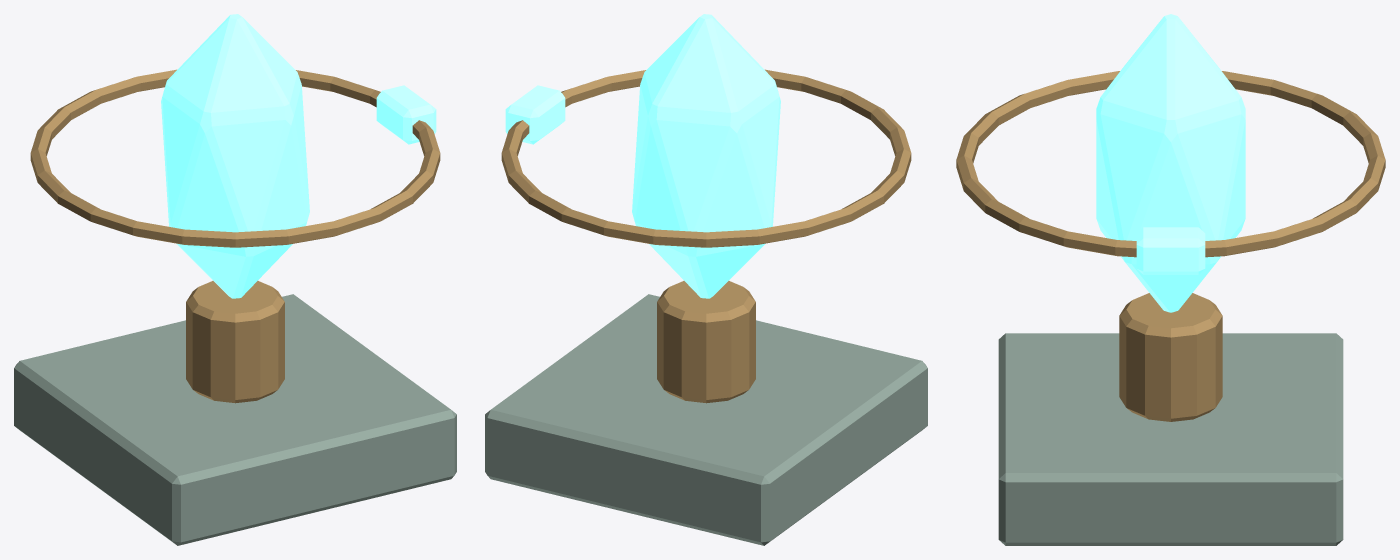
File: memory_echo.glb
3 renders of one model, left to right at view 1: azimuth 30°, elevation 25°; view 2: azimuth 150°, elevation 25°; view 3: azimuth 270°, elevation 25°, orthographic. The views are drawn at different scales.
Parts seen in each view (by area): view 1: memory_echo_surfaces, MemoryOrbit_surfaces; view 2: memory_echo_surfaces, MemoryOrbit_surfaces; view 3: memory_echo_surfaces, MemoryOrbit_surfaces.
Part boxes in pixels (x1,y1,x2,y2): memory_echo_surfaces: (14, 14, 456, 545); MemoryOrbit_surfaces: (30, 69, 440, 247); memory_echo_surfaces: (485, 14, 927, 545); MemoryOrbit_surfaces: (501, 69, 911, 247); memory_echo_surfaces: (998, 14, 1343, 545); MemoryOrbit_surfaces: (956, 71, 1385, 274).
Bounding box in the file's own units: 0.7685 × 0.8818 × 0.7471.
